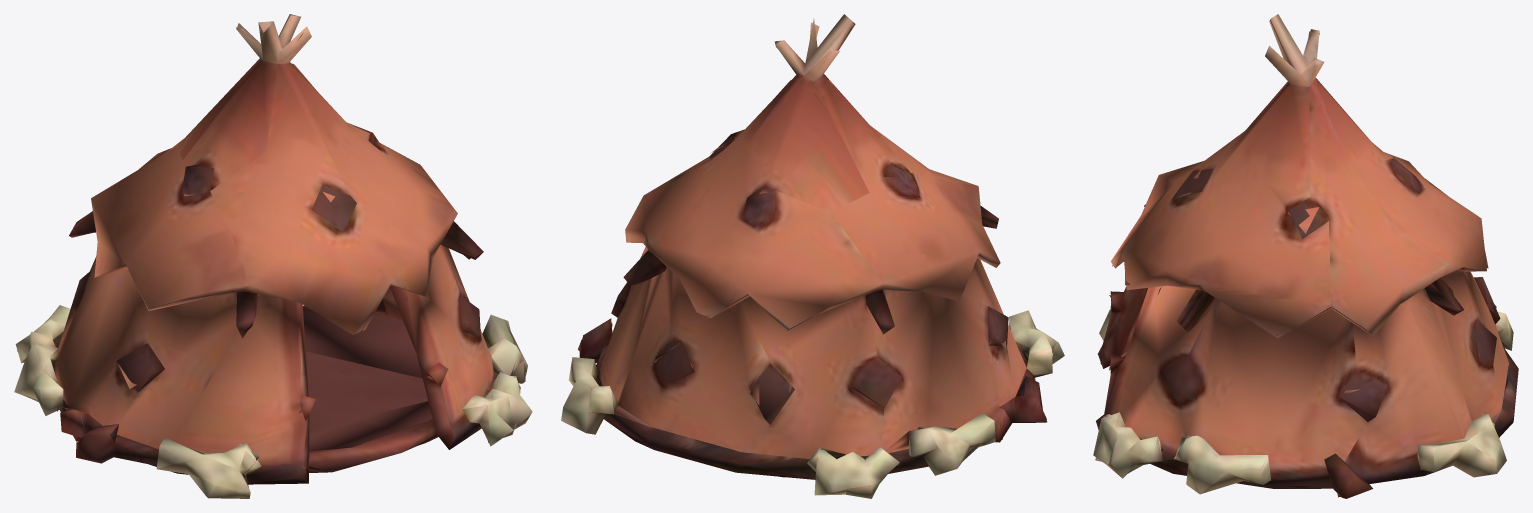
File: lg-enemy-tent-small.glb
3 views of the same model, side by side, from view 1: azimuth 30°, elevation 25°; view 2: azimuth 150°, elevation 25°; view 3: azimuth 270°, elevation 25° (orthographic). The views are drawn at different scales.
Parts seen in each view (by area): view 1: geometry_0; view 2: geometry_0; view 3: geometry_0.
Boxes of the visible parts, bbox=[...] form: geometry_0: bbox=[14, 14, 532, 498]; geometry_0: bbox=[561, 14, 1064, 498]; geometry_0: bbox=[1093, 14, 1518, 498].
Size of the model in its own units: 1 by 0.8741 by 0.8601.
1 material, 1 textured.
